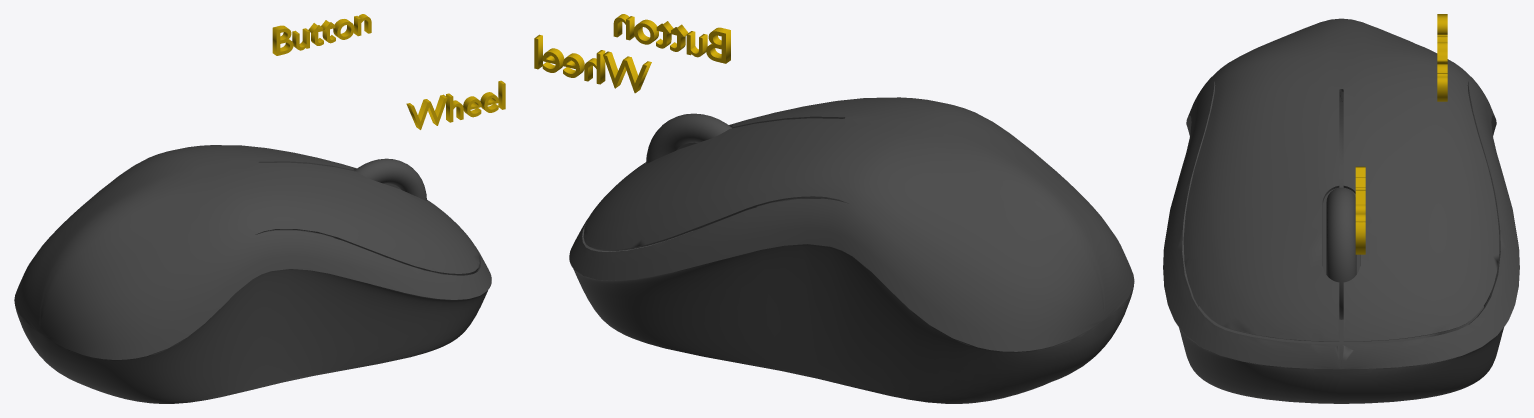
Rendered from mouse.glb.
3 renders of one model, left to right at view 1: azimuth 30°, elevation 25°; view 2: azimuth 150°, elevation 25°; view 3: azimuth 270°, elevation 25°, orthographic. The views are drawn at different scales.
Visible parts, largest first — view 1: Body1, Text.001, Text, Body2; view 2: Body1, Text.001, Text, Body2; view 3: Body1, Body2, Text, Text.001.
Part boxes in pixels (x1,y1,x2,y2): Body1: (14,145,491,403); Text.001: (272,14,371,55); Text: (406,80,505,129); Body2: (333,158,426,257); Body1: (569,97,1134,403); Text.001: (613,14,730,63); Text: (534,34,651,93); Body2: (646,113,756,230); Body1: (1163,18,1519,403); Body2: (1326,187,1356,319); Text: (1355,166,1365,254); Text.001: (1437,14,1447,101).
Bounding box in the file's own units: 2.63 × 1.38 × 1.41.
